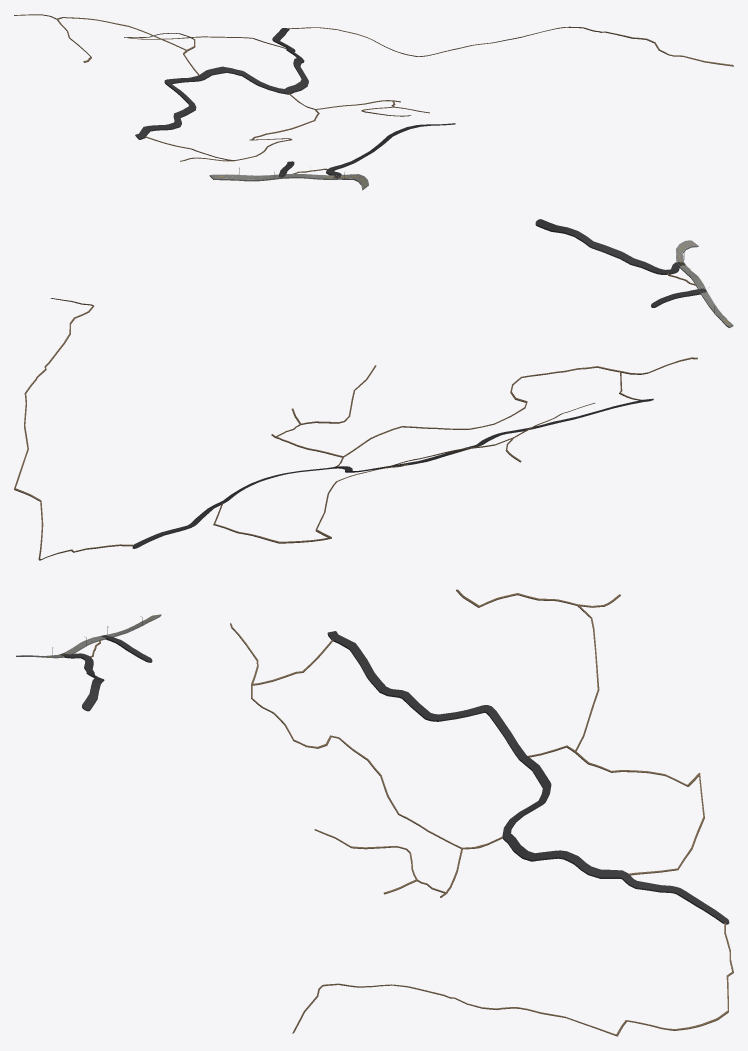
3 views of the same model, one above another, from view 1: azimuth 30°, elevation 25°; view 2: azimuth 150°, elevation 25°; view 3: azimuth 270°, elevation 25° (orthographic). The views are drawn at different scales.
Size of the model in its own units: 588 by 169 by 537.
